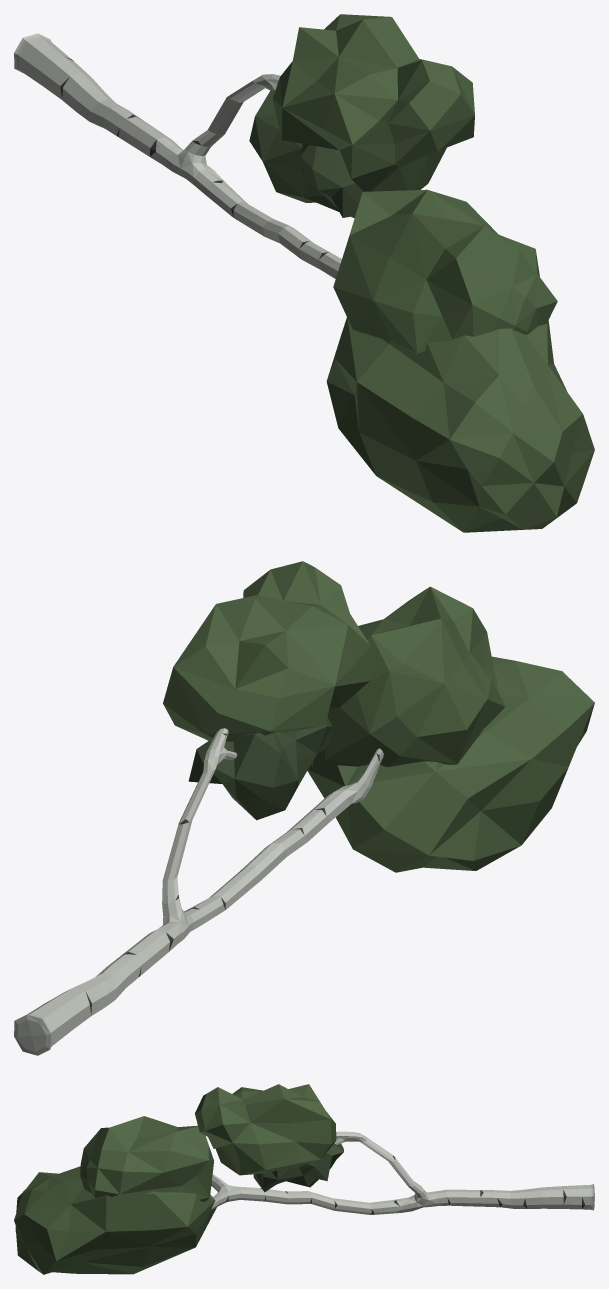
File: tree-birch-5-34-ft.obj
3 views of the same model, one above another, from view 1: azimuth 30°, elevation 25°; view 2: azimuth 150°, elevation 25°; view 3: azimuth 270°, elevation 25° (orthographic). The views are drawn at different scales.
Visible parts, largest first — view 1: tree-birch-5-34-ft; view 2: tree-birch-5-34-ft; view 3: tree-birch-5-34-ft.
Boxes of the visible parts, x1,y1,x2,y2 form: tree-birch-5-34-ft: (14,14,594,532); tree-birch-5-34-ft: (14,561,594,1055); tree-birch-5-34-ft: (14,1084,594,1274).
Bounding box in the file's own units: 96.7 × 157 × 408.
